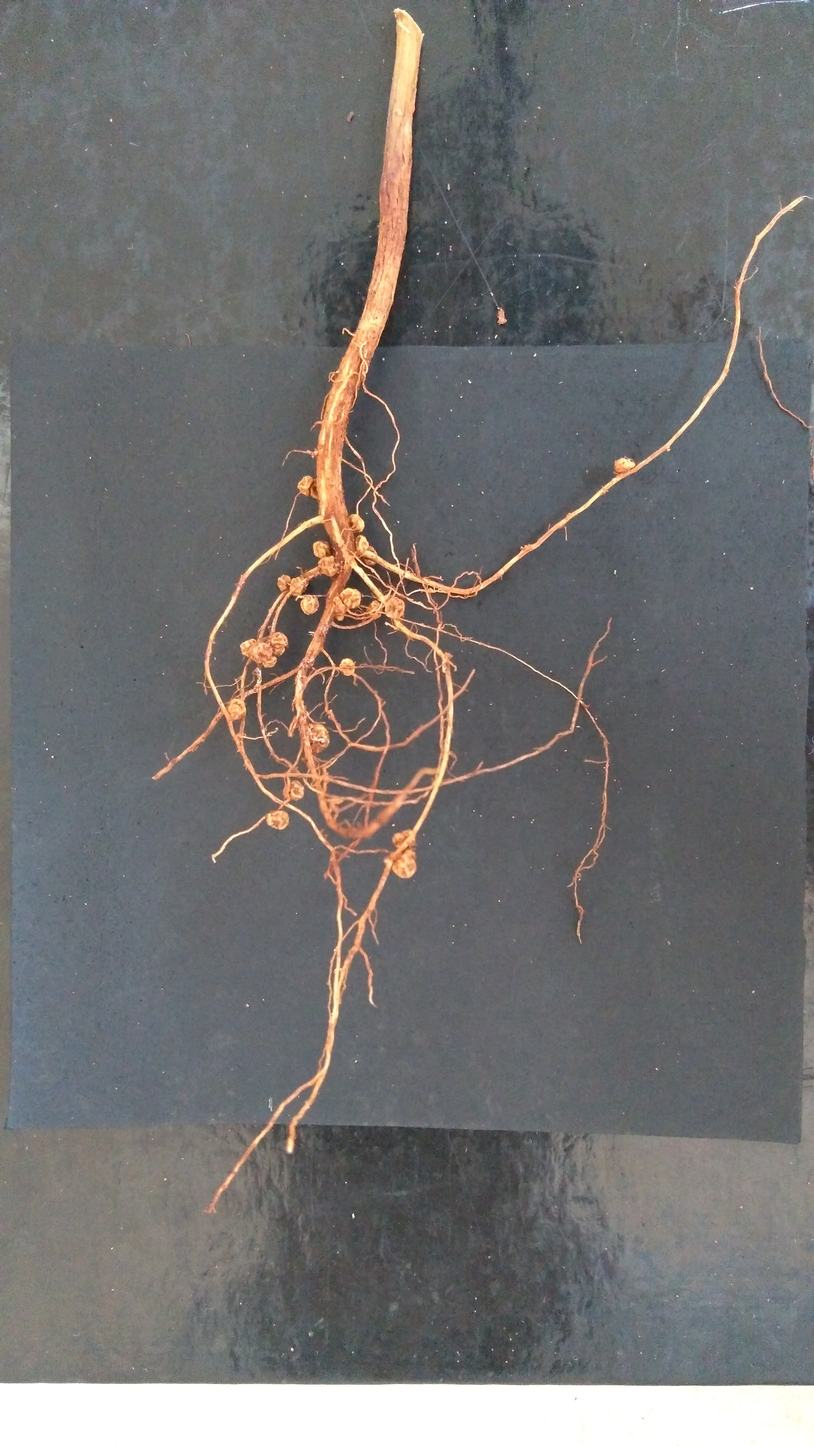nodule: (392, 829, 417, 879), (240, 639, 273, 663), (306, 723, 330, 755), (277, 574, 304, 596), (297, 476, 317, 499), (340, 588, 361, 609), (385, 597, 405, 619), (282, 780, 304, 800), (266, 810, 289, 829), (271, 632, 288, 657), (318, 555, 337, 577), (333, 595, 349, 621), (228, 699, 246, 720), (300, 596, 319, 615), (313, 541, 332, 559), (362, 545, 378, 565), (349, 514, 365, 533), (615, 458, 636, 472), (339, 658, 355, 676), (368, 600, 382, 619), (356, 535, 369, 553), (262, 656, 277, 668), (310, 450, 318, 458)
